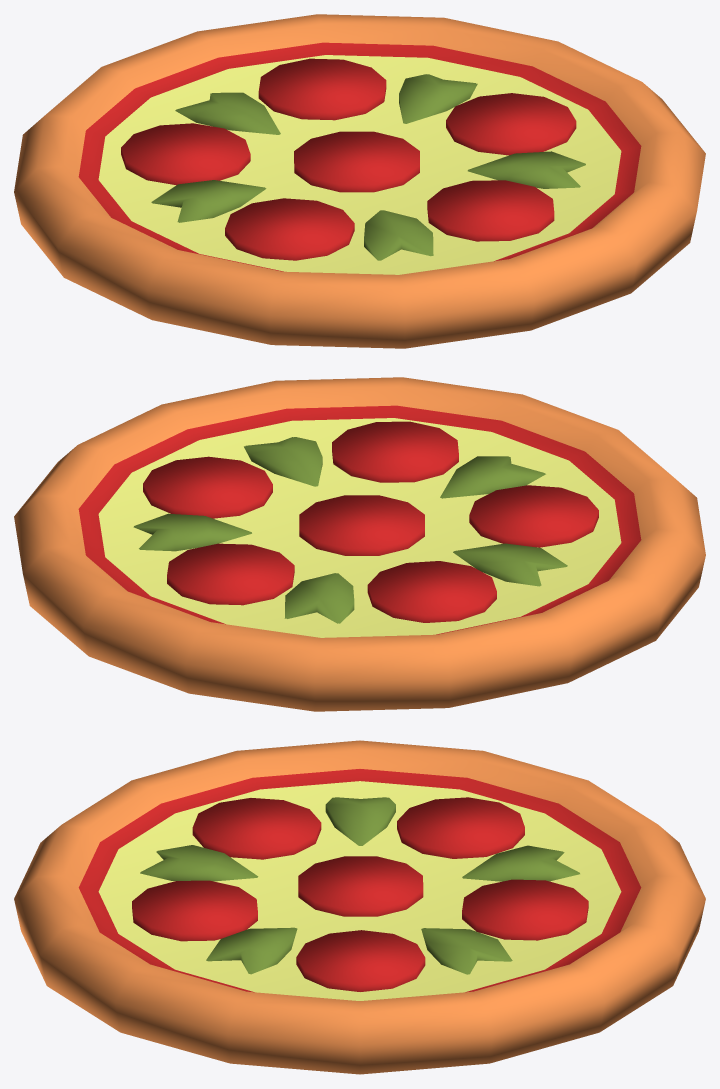
Rendered from Pizza_geo.fbx.
3 views of the same model, one above another, from view 1: azimuth 30°, elevation 25°; view 2: azimuth 150°, elevation 25°; view 3: azimuth 270°, elevation 25° (orthographic).
Parts seen in each view (by area): view 1: Pizza_geo; view 2: Pizza_geo; view 3: Pizza_geo.
Part boxes in pixels (x1=…): Pizza_geo: x1=14, y1=14, x2=705, y2=348; Pizza_geo: x1=14, y1=377, x2=705, y2=711; Pizza_geo: x1=14, y1=740, x2=705, y2=1074.
Bounding box in the file's own units: 0.8307 × 0.8307 × 0.0735.
